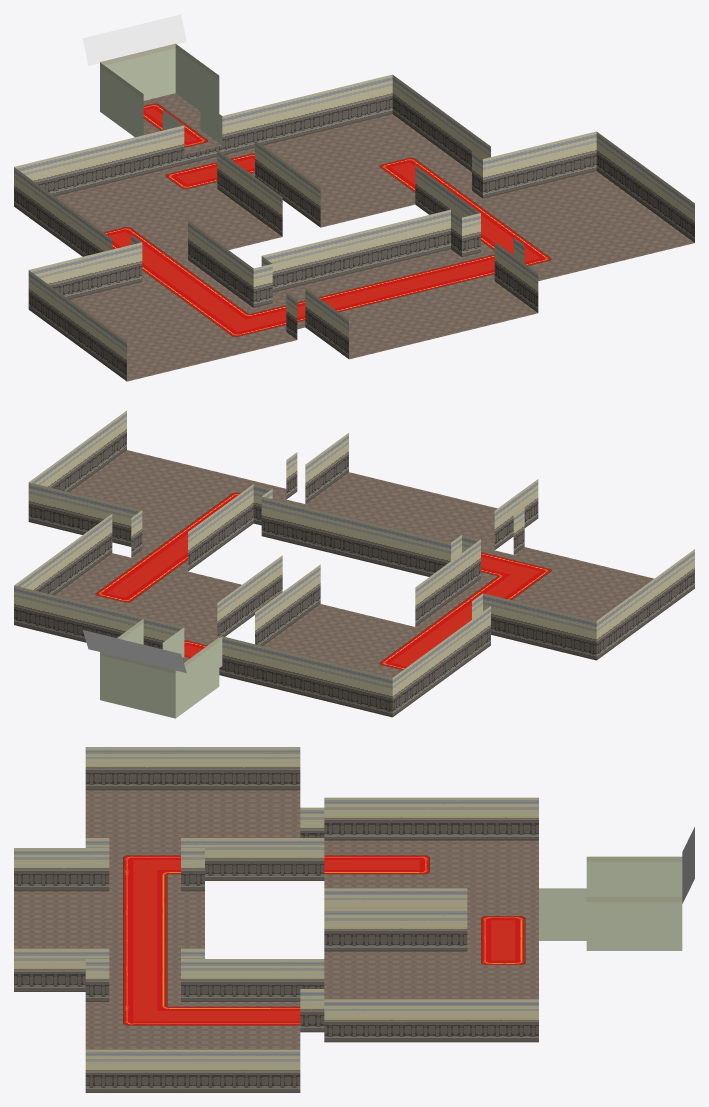
File: NapoleonCasino_2.obj
The picture shows the model from 3 angles, top to bottom: view 1: azimuth 30°, elevation 25°; view 2: azimuth 150°, elevation 25°; view 3: azimuth 270°, elevation 25°; orthographic projection. The views are drawn at different scales.
Visible parts, largest first — view 1: Walls_Grid.001, Floor_Grid, Rug_Grid.002, Plane; view 2: Walls_Grid.001, Floor_Grid, Rug_Grid.002, Plane; view 3: Walls_Grid.001, Floor_Grid, Rug_Grid.002, Plane.
Part boxes in pixels (x1,y1,x2,y2): Walls_Grid.001: [14, 43, 694, 381]; Floor_Grid: [55, 93, 694, 381]; Rug_Grid.002: [104, 103, 551, 336]; Plane: [82, 14, 186, 65]; Walls_Grid.001: [14, 410, 694, 718]; Floor_Grid: [55, 450, 653, 677]; Rug_Grid.002: [95, 492, 551, 670]; Plane: [83, 630, 186, 672]; Walls_Grid.001: [14, 747, 682, 1092]; Floor_Grid: [14, 790, 538, 1049]; Rug_Grid.002: [123, 855, 525, 1025]; Plane: [682, 827, 694, 903].
Size of the model in its own units: 30 by 4.12 by 28.53.
